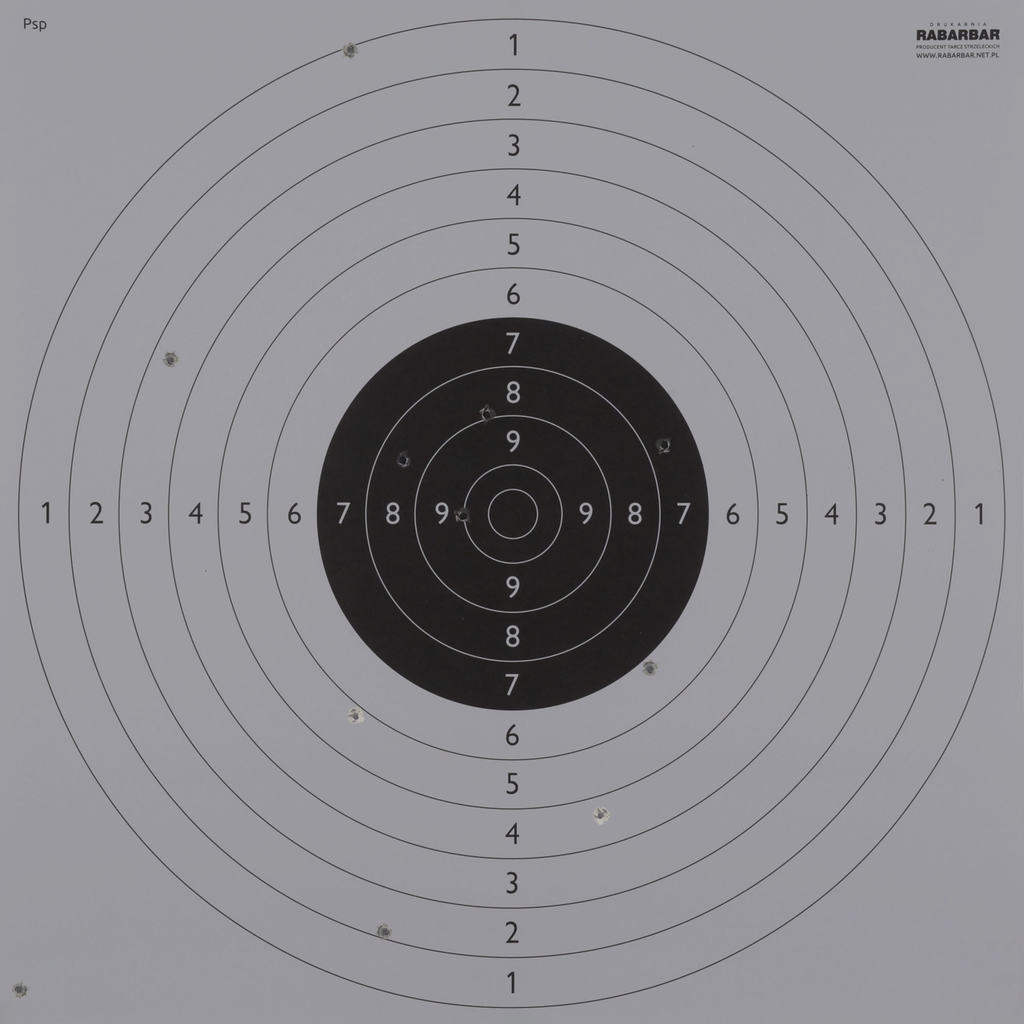0 punktow: (10, 981, 29, 999)
1 punkt: (341, 41, 360, 59)
10 punktow: (454, 507, 472, 526)
2 punkty: (376, 923, 394, 941)
3 punkty: (161, 351, 180, 369)
4 punkty: (591, 806, 610, 825)
5 punktow: (346, 707, 365, 726)
6 punktow: (641, 660, 659, 678)
7 punktow: (655, 436, 674, 455)
8 punktow: (394, 451, 412, 469)
9 punktow: (477, 405, 496, 424)
